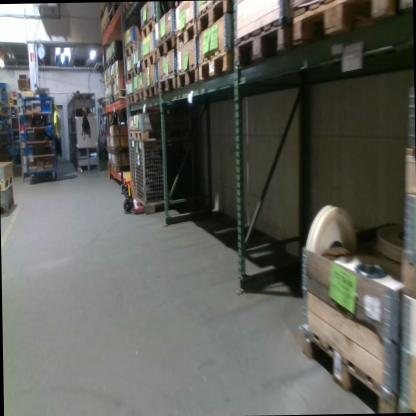pallet: (296, 318, 397, 412), (290, 0, 397, 39), (234, 19, 300, 70), (197, 49, 236, 85), (196, 1, 235, 34), (175, 16, 200, 52), (176, 62, 199, 94), (157, 30, 176, 60), (135, 128, 167, 144), (139, 17, 160, 40), (160, 73, 178, 96), (142, 48, 160, 70), (124, 38, 138, 60), (0, 198, 15, 217), (145, 80, 158, 101), (109, 161, 132, 172), (133, 86, 144, 108), (0, 175, 14, 191), (122, 1, 137, 15), (114, 88, 126, 105), (110, 51, 122, 68), (125, 91, 134, 108), (109, 145, 129, 152), (124, 68, 134, 81), (112, 74, 123, 84), (104, 17, 110, 33), (127, 127, 134, 139), (102, 77, 107, 92), (100, 26, 105, 41), (105, 58, 111, 68), (103, 98, 108, 108), (108, 93, 112, 105), (104, 144, 110, 150), (110, 76, 111, 89)
pallet_truck: (110, 110, 146, 216)
stillage: (132, 135, 199, 215), (127, 134, 136, 201)
